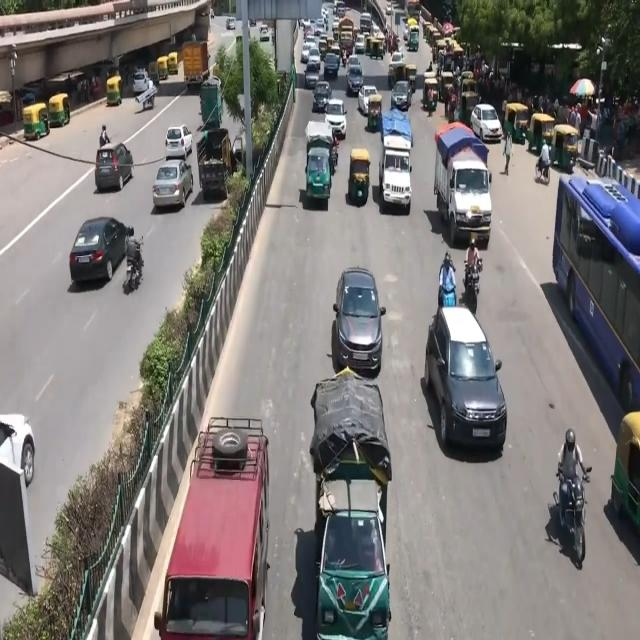Bike: (542, 430, 600, 572), (462, 244, 492, 313), (125, 228, 148, 296)
